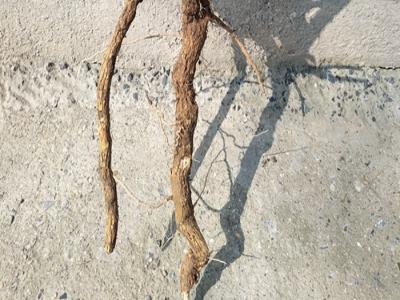Root: (170, 0, 263, 299), (97, 0, 142, 252)
